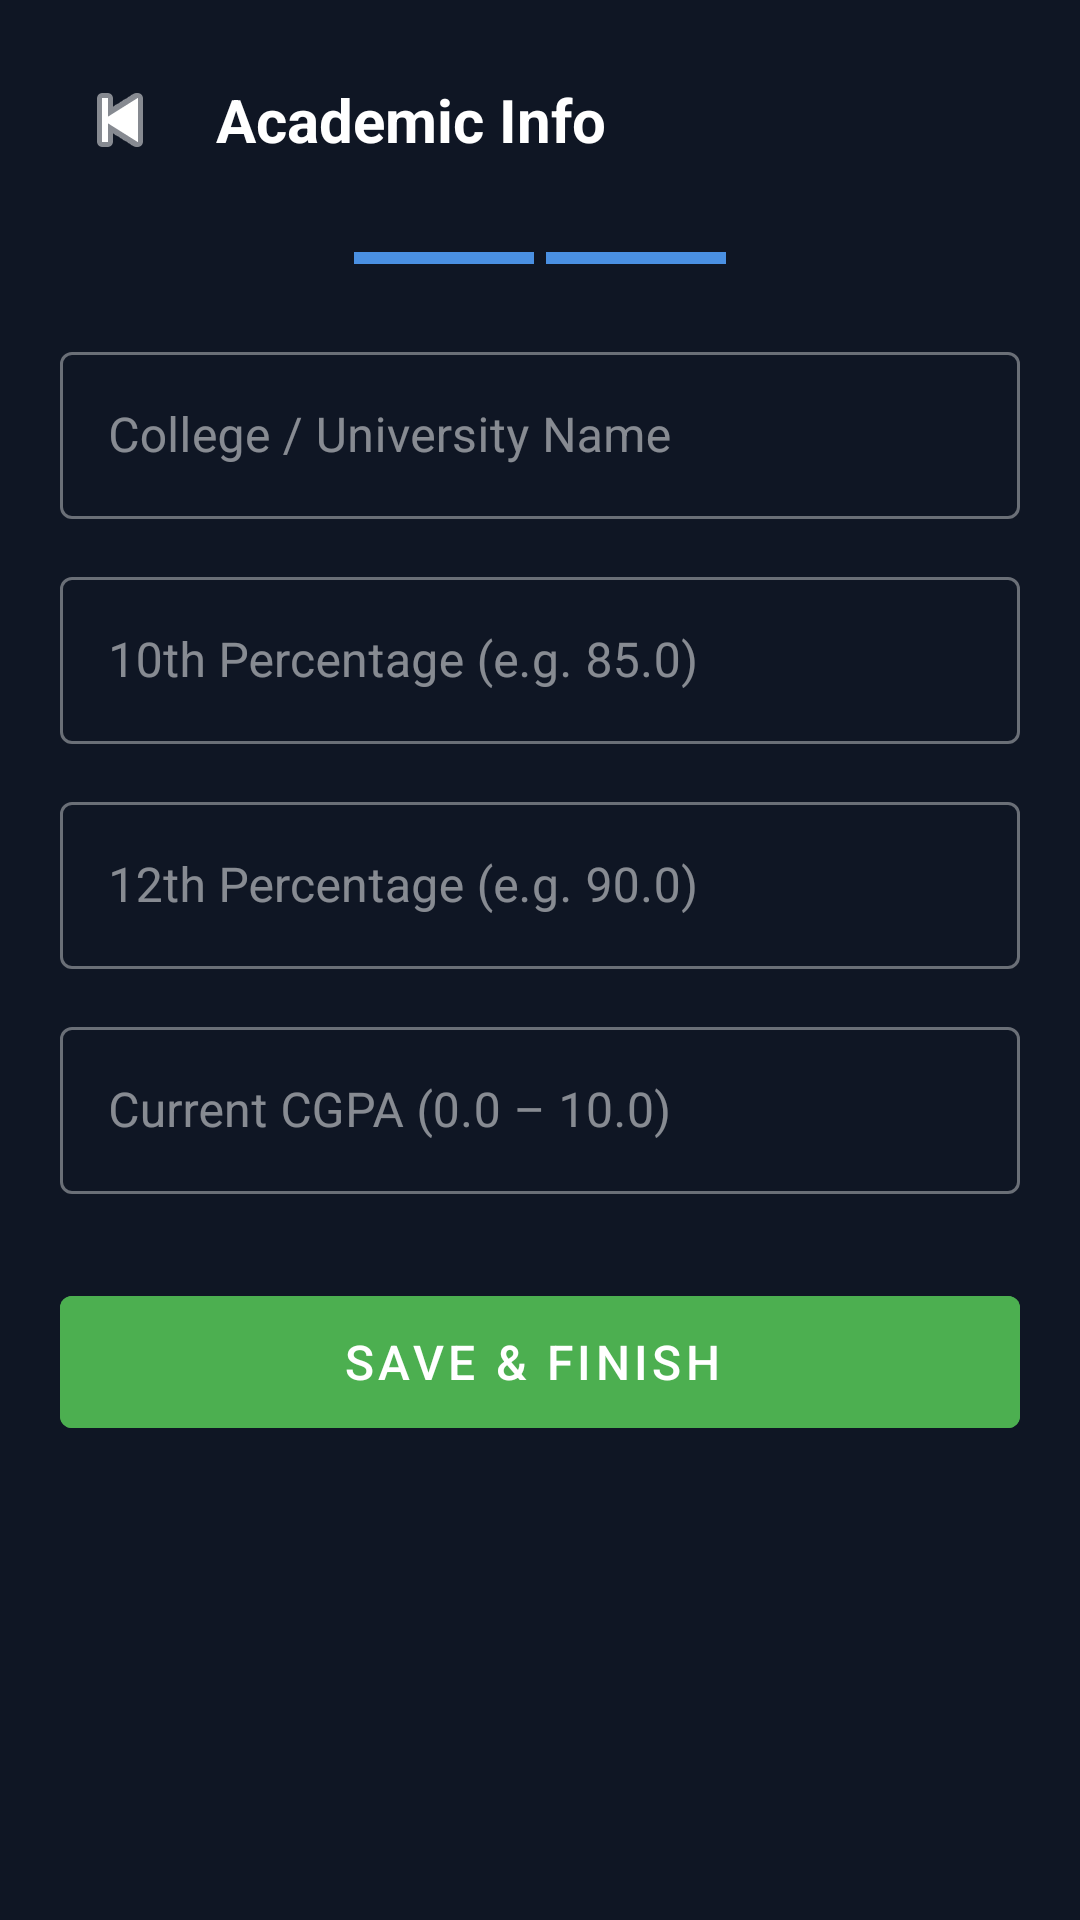

Where to tap for icons on this 1080×1920 app screen, as (x=x, y=y):
Back: (x=120, y=120)
